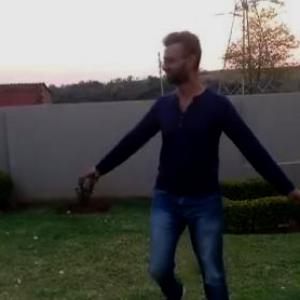land: (48, 12, 299, 299)
